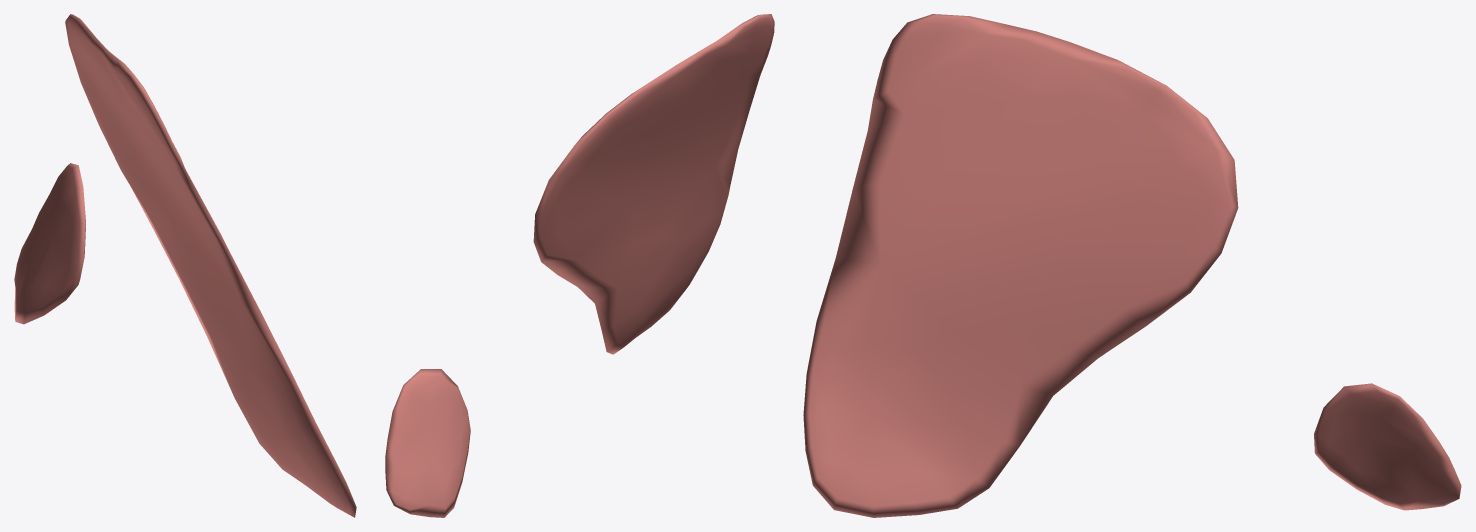
The picture shows the model from 3 angles, left to right: view 1: azimuth 30°, elevation 25°; view 2: azimuth 150°, elevation 25°; view 3: azimuth 270°, elevation 25°; orthographic projection. The views are drawn at different scales.
Parts seen in each view (by area): view 1: ZA_d2a39b269a58be3c; view 2: ZA_d2a39b269a58be3c; view 3: ZA_d2a39b269a58be3c.
Part boxes in pixels (x1,y1,x2,y2): ZA_d2a39b269a58be3c: (14,14,356,517); ZA_d2a39b269a58be3c: (385,14,774,517); ZA_d2a39b269a58be3c: (803,14,1461,517).
Size of the model in its own units: 0.0108 by 0.0252 by 0.0345.
